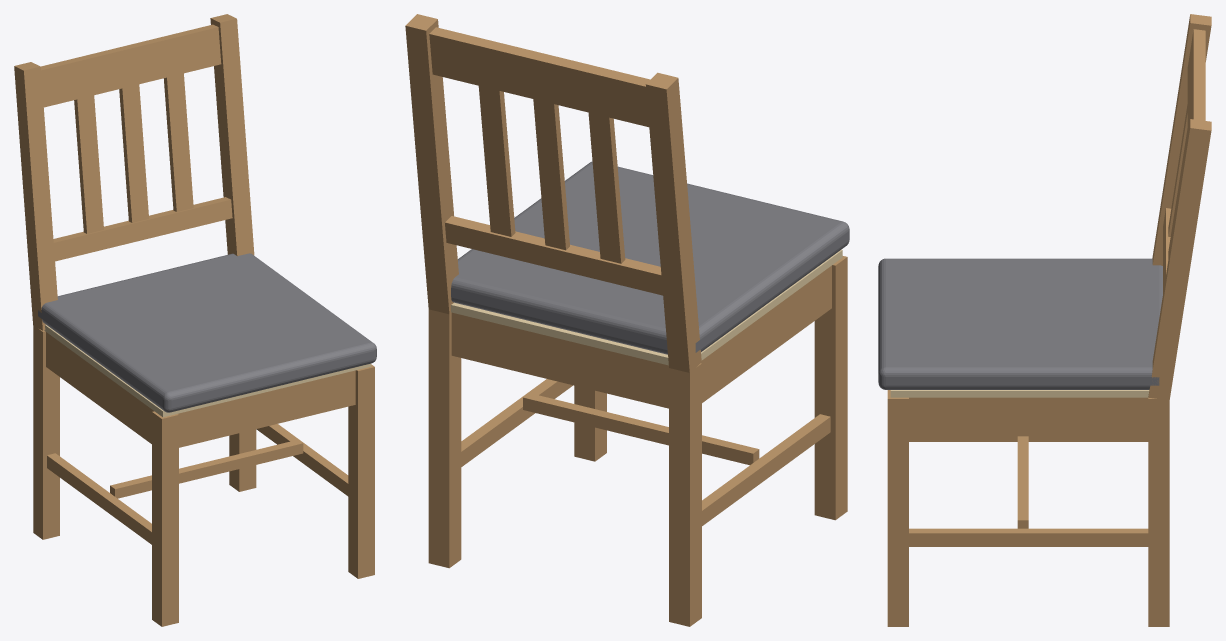
The model's file is 017_dining_side_chair.glb.
The picture shows the model from 3 angles, left to right: view 1: azimuth 30°, elevation 25°; view 2: azimuth 150°, elevation 25°; view 3: azimuth 270°, elevation 25°; orthographic projection. The views are drawn at different scales.
Visible parts, largest first — view 1: 016_chair_seat_cushion, 019_chair_crest_rail, 017_chair_back_post, 008_chair_front_rail, 018_chair_back_post, 000_chair_front_leg, 002_chair_front_leg, 001_chair_back_leg, 020_chair_lower_back_rail, 010_chair_side_rail_l, 021_chair_back_slat, 022_chair_back_slat (+6 smaller); view 2: 016_chair_seat_cushion, 019_chair_crest_rail, 017_chair_back_post, 009_chair_back_rail, 018_chair_back_post, 001_chair_back_leg, 003_chair_back_leg, 000_chair_front_leg, 020_chair_lower_back_rail, 010_chair_side_rail_l, 014_chair_stretcher_mid, 015_chair_seat_board (+6 smaller); view 3: 016_chair_seat_cushion, 011_chair_side_rail_r, 018_chair_back_post, 002_chair_front_leg, 003_chair_back_leg, 013_chair_stretcher_r, 017_chair_back_post, 015_chair_seat_board, 019_chair_crest_rail, 012_chair_stretcher_l, 014_chair_stretcher_mid, 021_chair_back_slat.
Part boxes in pixels (box(x1,y1,x2,y2)): 016_chair_seat_cushion: box(38, 253, 376, 412); 019_chair_crest_rail: box(41, 24, 221, 107); 017_chair_back_post: box(14, 62, 57, 330); 008_chair_front_rail: box(178, 370, 355, 447); 018_chair_back_post: box(210, 14, 254, 256); 000_chair_front_leg: box(152, 411, 178, 626); 002_chair_front_leg: box(348, 364, 374, 578); 001_chair_back_leg: box(33, 325, 59, 539); 020_chair_lower_back_rail: box(53, 197, 232, 261); 010_chair_side_rail_l: box(46, 332, 153, 443); 021_chair_back_slat: box(74, 95, 103, 233); 022_chair_back_slat: box(119, 84, 148, 222); 016_chair_seat_cushion: box(451, 161, 849, 354); 019_chair_crest_rail: box(429, 27, 650, 127); 017_chair_back_post: box(645, 72, 701, 373); 009_chair_back_rail: box(451, 312, 668, 408); 018_chair_back_post: box(405, 14, 458, 314); 001_chair_back_leg: box(669, 363, 701, 626); 003_chair_back_leg: box(428, 309, 461, 568); 000_chair_front_leg: box(814, 256, 847, 520); 020_chair_lower_back_rail: box(445, 216, 662, 295); 010_chair_side_rail_l: box(701, 265, 831, 402); 014_chair_stretcher_mid: box(523, 393, 759, 465); 015_chair_seat_board: box(451, 249, 842, 365); 016_chair_seat_cushion: box(878, 258, 1162, 389); 011_chair_side_rail_r: box(909, 397, 1148, 436); 018_chair_back_post: box(1148, 119, 1211, 399); 002_chair_front_leg: box(887, 390, 908, 626); 003_chair_back_leg: box(1148, 397, 1169, 626); 013_chair_stretcher_r: box(909, 528, 1148, 546); 017_chair_back_post: box(1152, 14, 1211, 265); 015_chair_seat_board: box(890, 390, 1149, 397); 019_chair_crest_rail: box(1187, 29, 1205, 134); 012_chair_stretcher_l: box(909, 436, 1148, 441); 014_chair_stretcher_mid: box(1017, 436, 1028, 528); 021_chair_back_slat: box(1168, 104, 1187, 236).
Bounding box in the file's own units: 0.44 × 0.8977 × 0.543.
